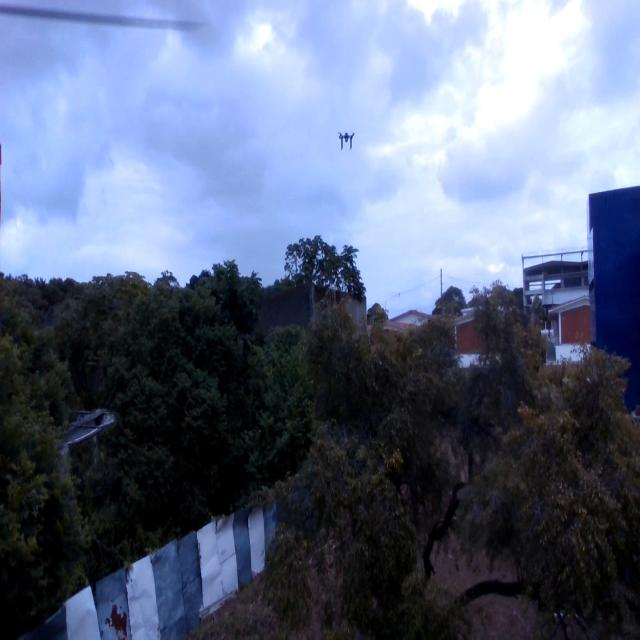-uav-: (334, 118, 363, 169)
